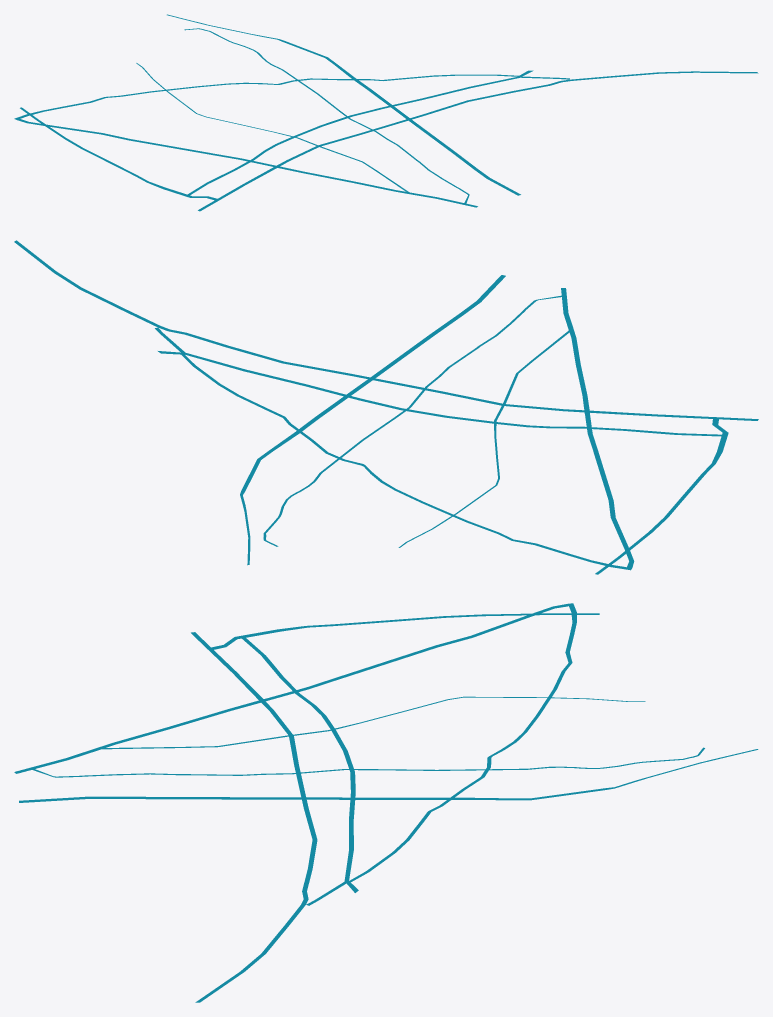
File: tianjin_lu.gltf
The picture shows the model from 3 angles, top to bottom: view 1: azimuth 30°, elevation 25°; view 2: azimuth 150°, elevation 25°; view 3: azimuth 270°, elevation 25°; orthographic projection. The views are drawn at different scales.
Parts seen in each view (by area): view 1: lu_4, lu_5, lu_7, lu_1, lu_2, lu_3, lu_8, lu_6; view 2: lu_4, lu_1, lu_5, lu_2, lu_7, lu_3, lu_8, lu_6; view 3: lu_4, lu_1, lu_5, lu_7, lu_2, lu_3, lu_8, lu_6.
Boxes of the visible parts, <box> form: lu_4: <box>198,71,758,211</box>; lu_5: <box>17,119,477,207</box>; lu_7: <box>14,74,569,119</box>; lu_1: <box>167,14,520,195</box>; lu_2: <box>187,70,533,195</box>; lu_3: <box>184,28,469,203</box>; lu_8: <box>20,107,217,200</box>; lu_6: <box>136,63,408,192</box>; lu_4: <box>14,240,758,420</box>; lu_1: <box>240,275,505,565</box>; lu_5: <box>561,288,634,567</box>; lu_2: <box>158,351,721,436</box>; lu_7: <box>155,327,631,570</box>; lu_3: <box>263,295,561,546</box>; lu_8: <box>595,419,728,574</box>; lu_6: <box>398,330,569,547</box>; lu_4: <box>191,632,317,1002</box>; lu_1: <box>19,749,758,802</box>; lu_5: <box>14,604,568,773</box>; lu_7: <box>306,603,576,905</box>; lu_2: <box>242,638,358,892</box>; lu_3: <box>32,747,704,777</box>; lu_8: <box>211,613,599,649</box>; lu_6: <box>102,696,645,749</box>.
Bounding box in the file's own units: 9941 × 0 × 7834.
1 material, 1 textured.
